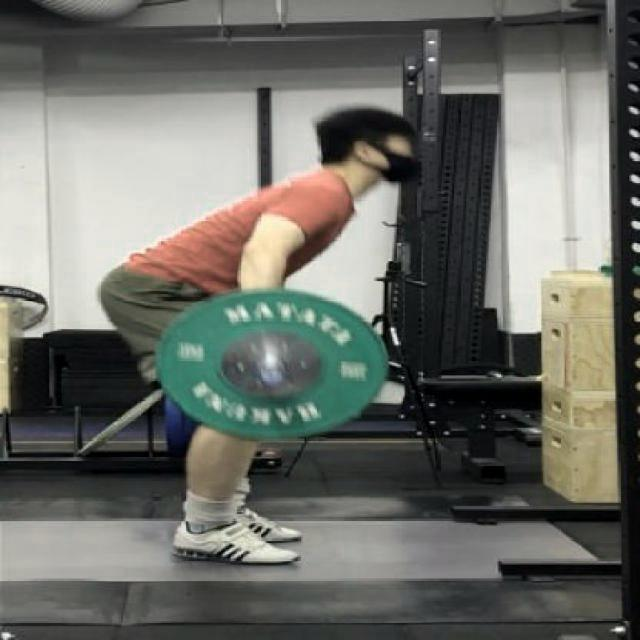barbell: (153, 282, 395, 447)
